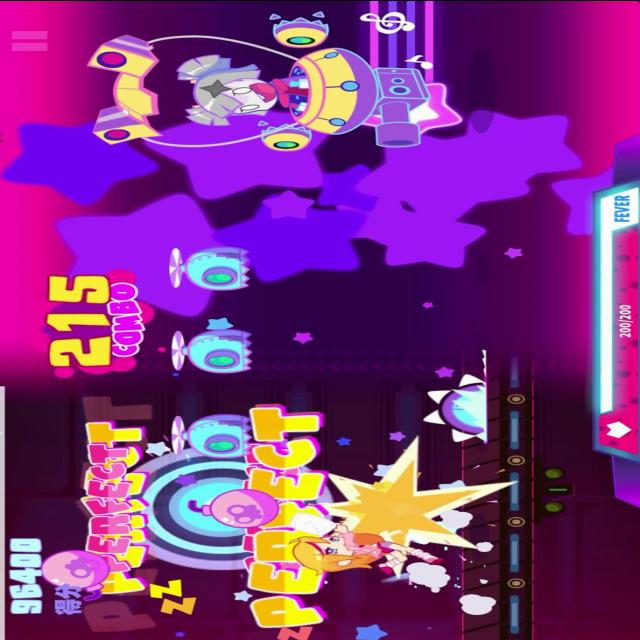ci: (418, 334, 492, 446)
hold: (332, 0, 462, 139)
jiqiqiu: (162, 317, 256, 379), (164, 237, 254, 291), (167, 411, 253, 458)
qiangboss: (90, 9, 430, 154)
tang: (186, 483, 285, 531), (46, 545, 110, 598)
